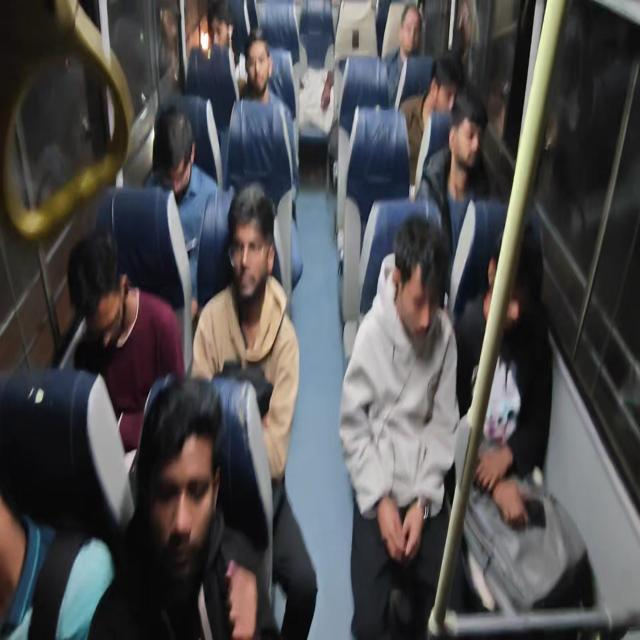person: (191, 182, 318, 638), (338, 213, 461, 638), (86, 372, 264, 638), (454, 221, 553, 532), (66, 228, 186, 453), (415, 88, 497, 312), (0, 496, 116, 639), (143, 105, 220, 309), (226, 28, 300, 214), (399, 52, 463, 188), (186, 0, 242, 126), (238, 28, 294, 118), (384, 3, 424, 108), (206, 1, 238, 81)
